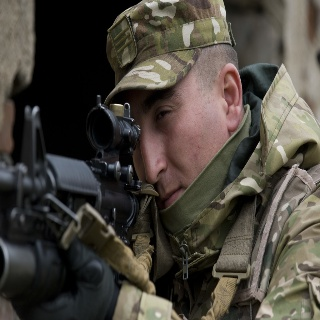rifle: (1, 92, 148, 249)
